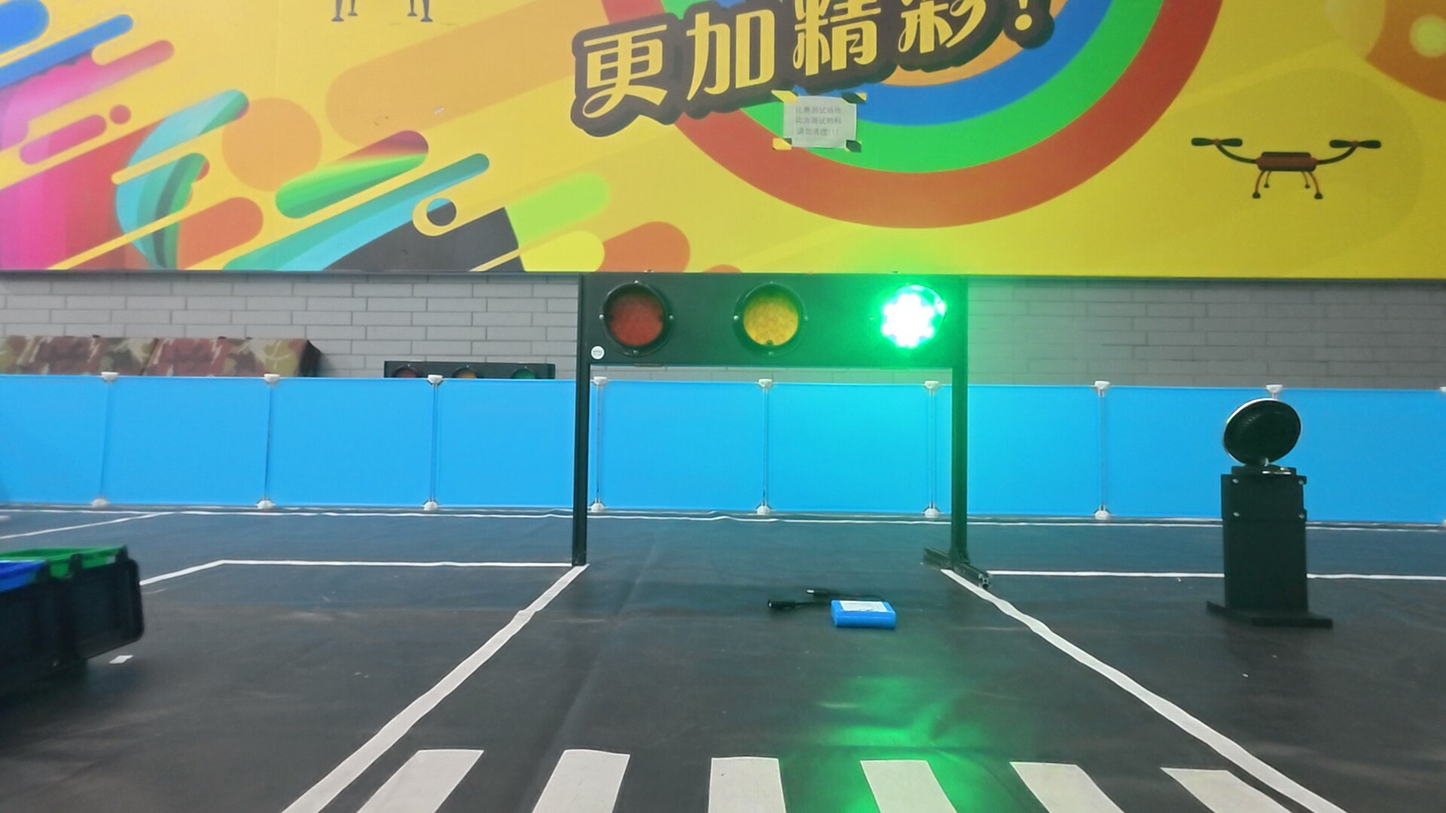go: (874, 281, 951, 359)
